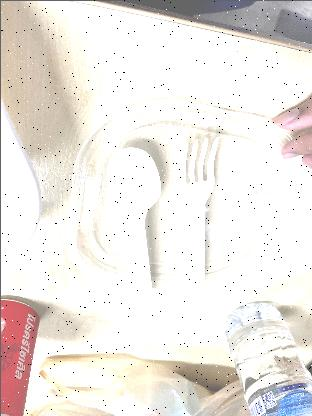Others: (100, 138, 166, 306), (174, 130, 220, 292)
